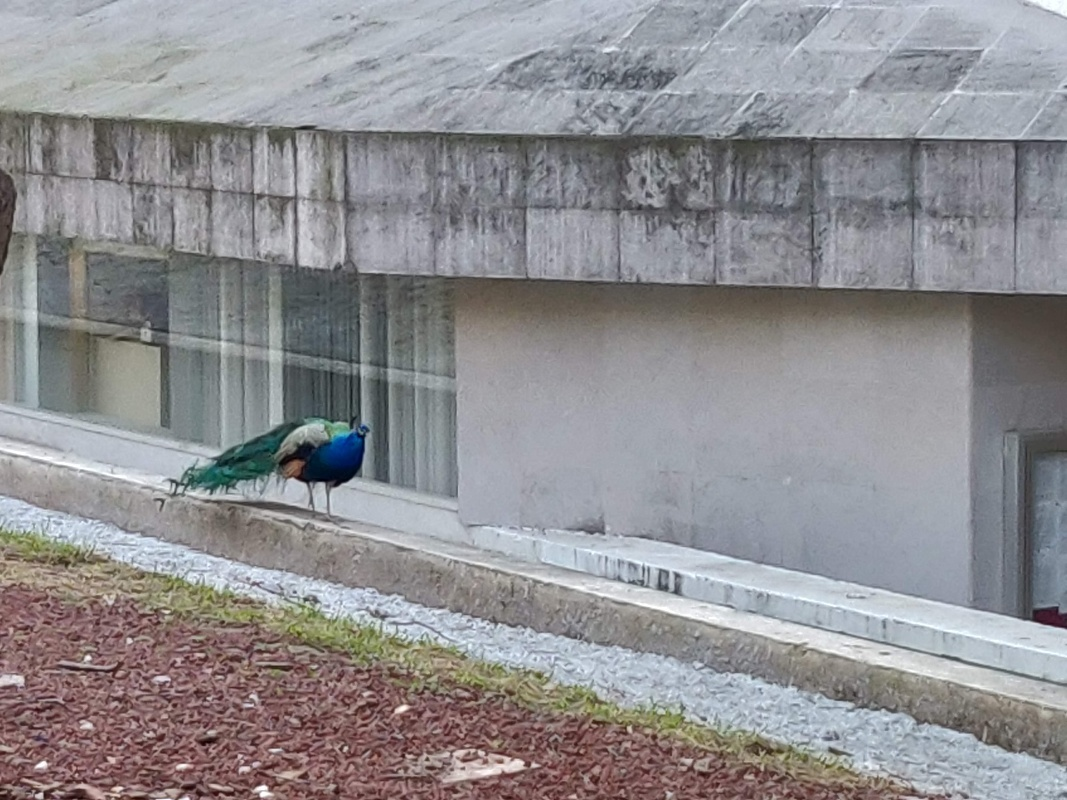pavoreal: (272, 411, 371, 507)
